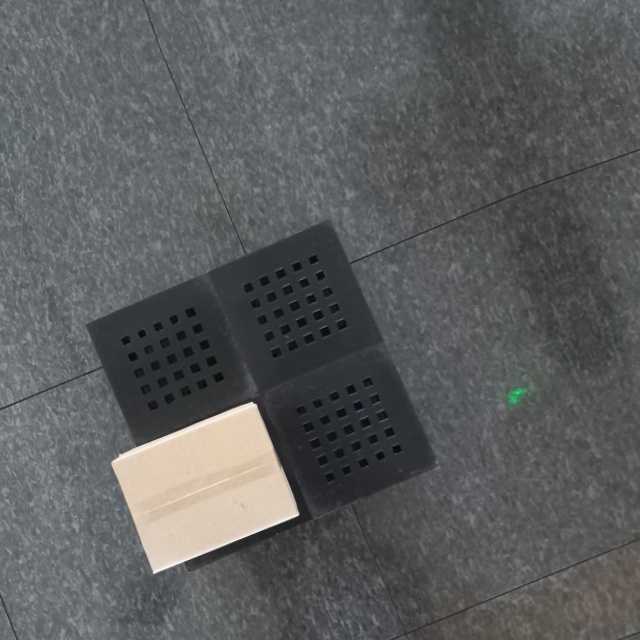box: (107, 397, 302, 578)
pallet: (79, 214, 444, 567)
